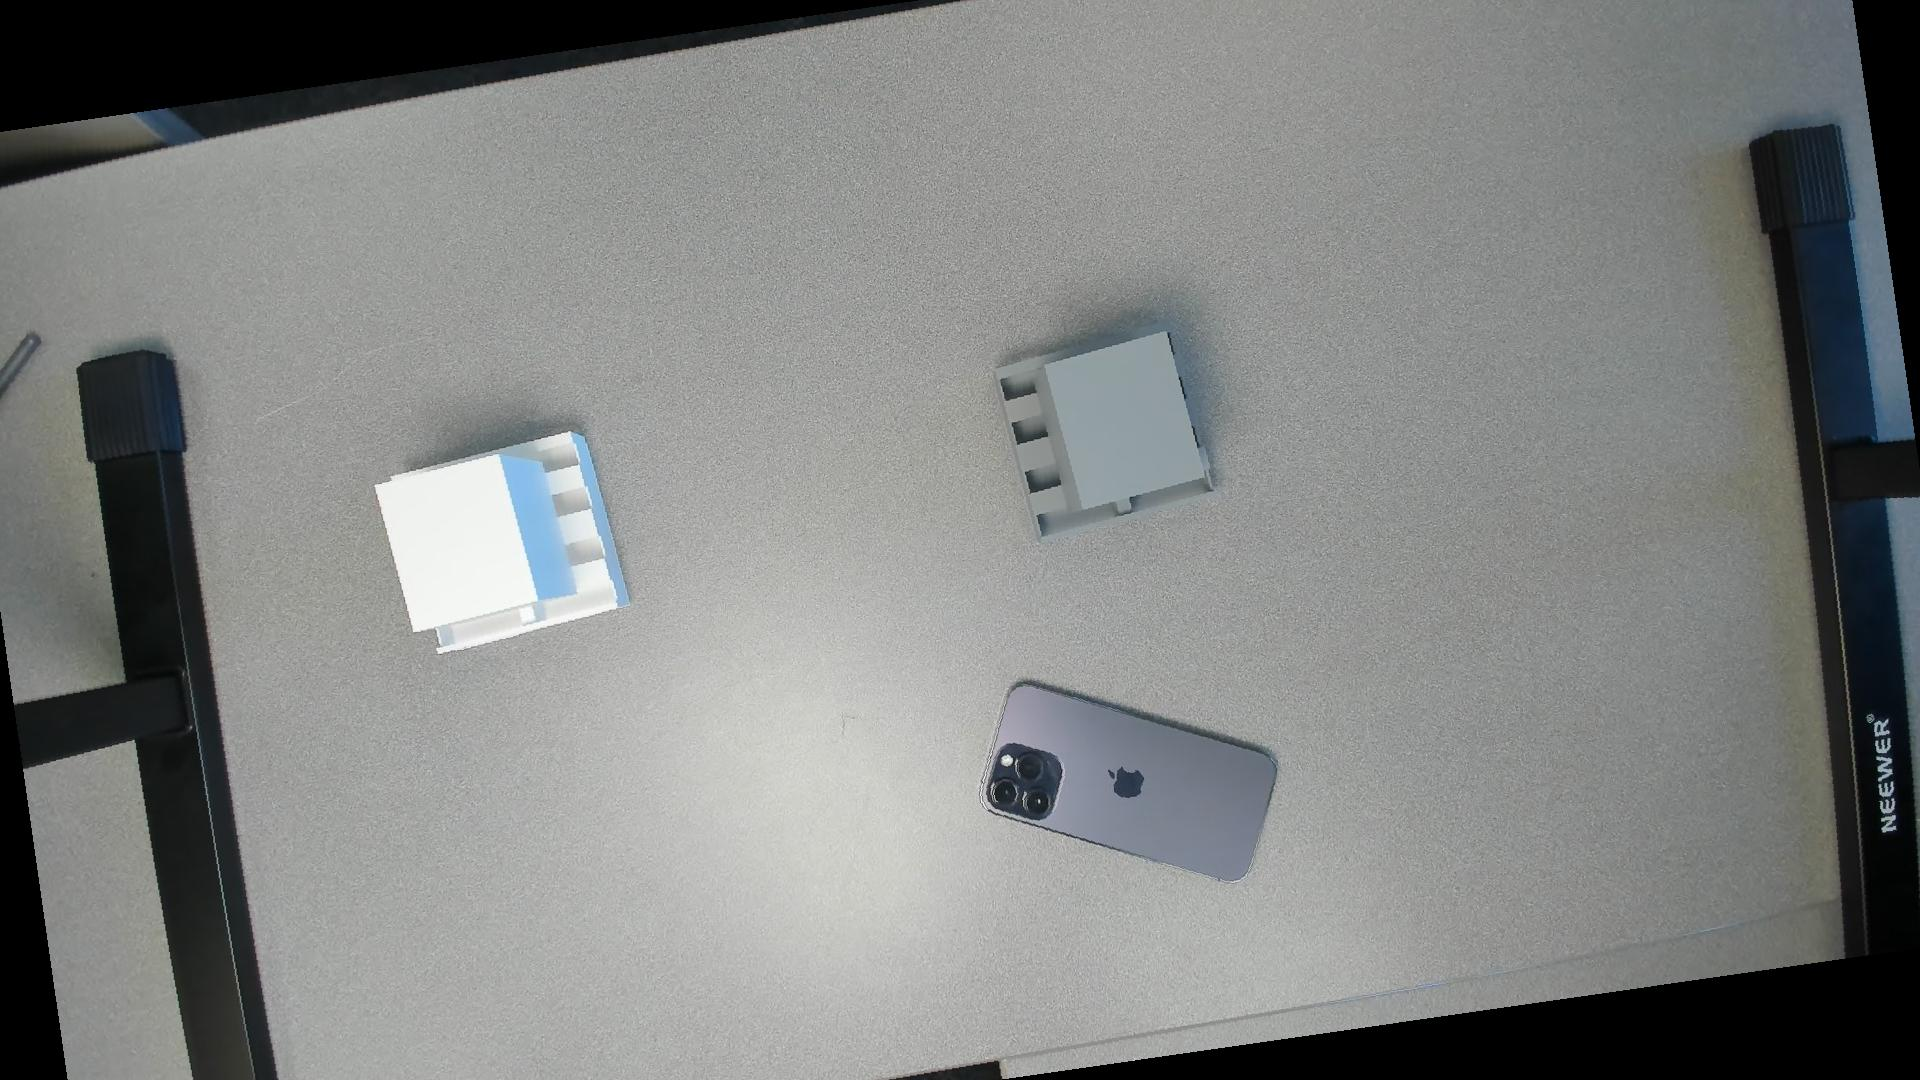grey pallet: (986, 324, 1224, 541)
white pallet: (369, 425, 644, 657)
